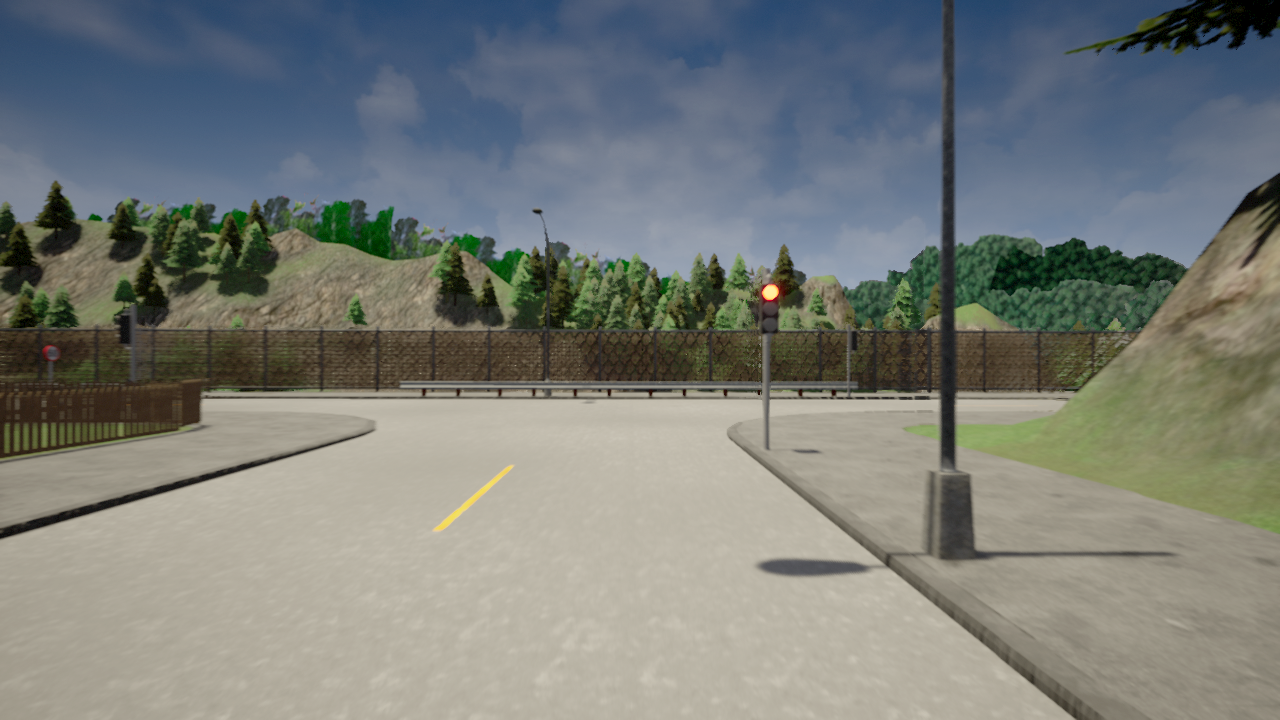red: (757, 282, 780, 335)
